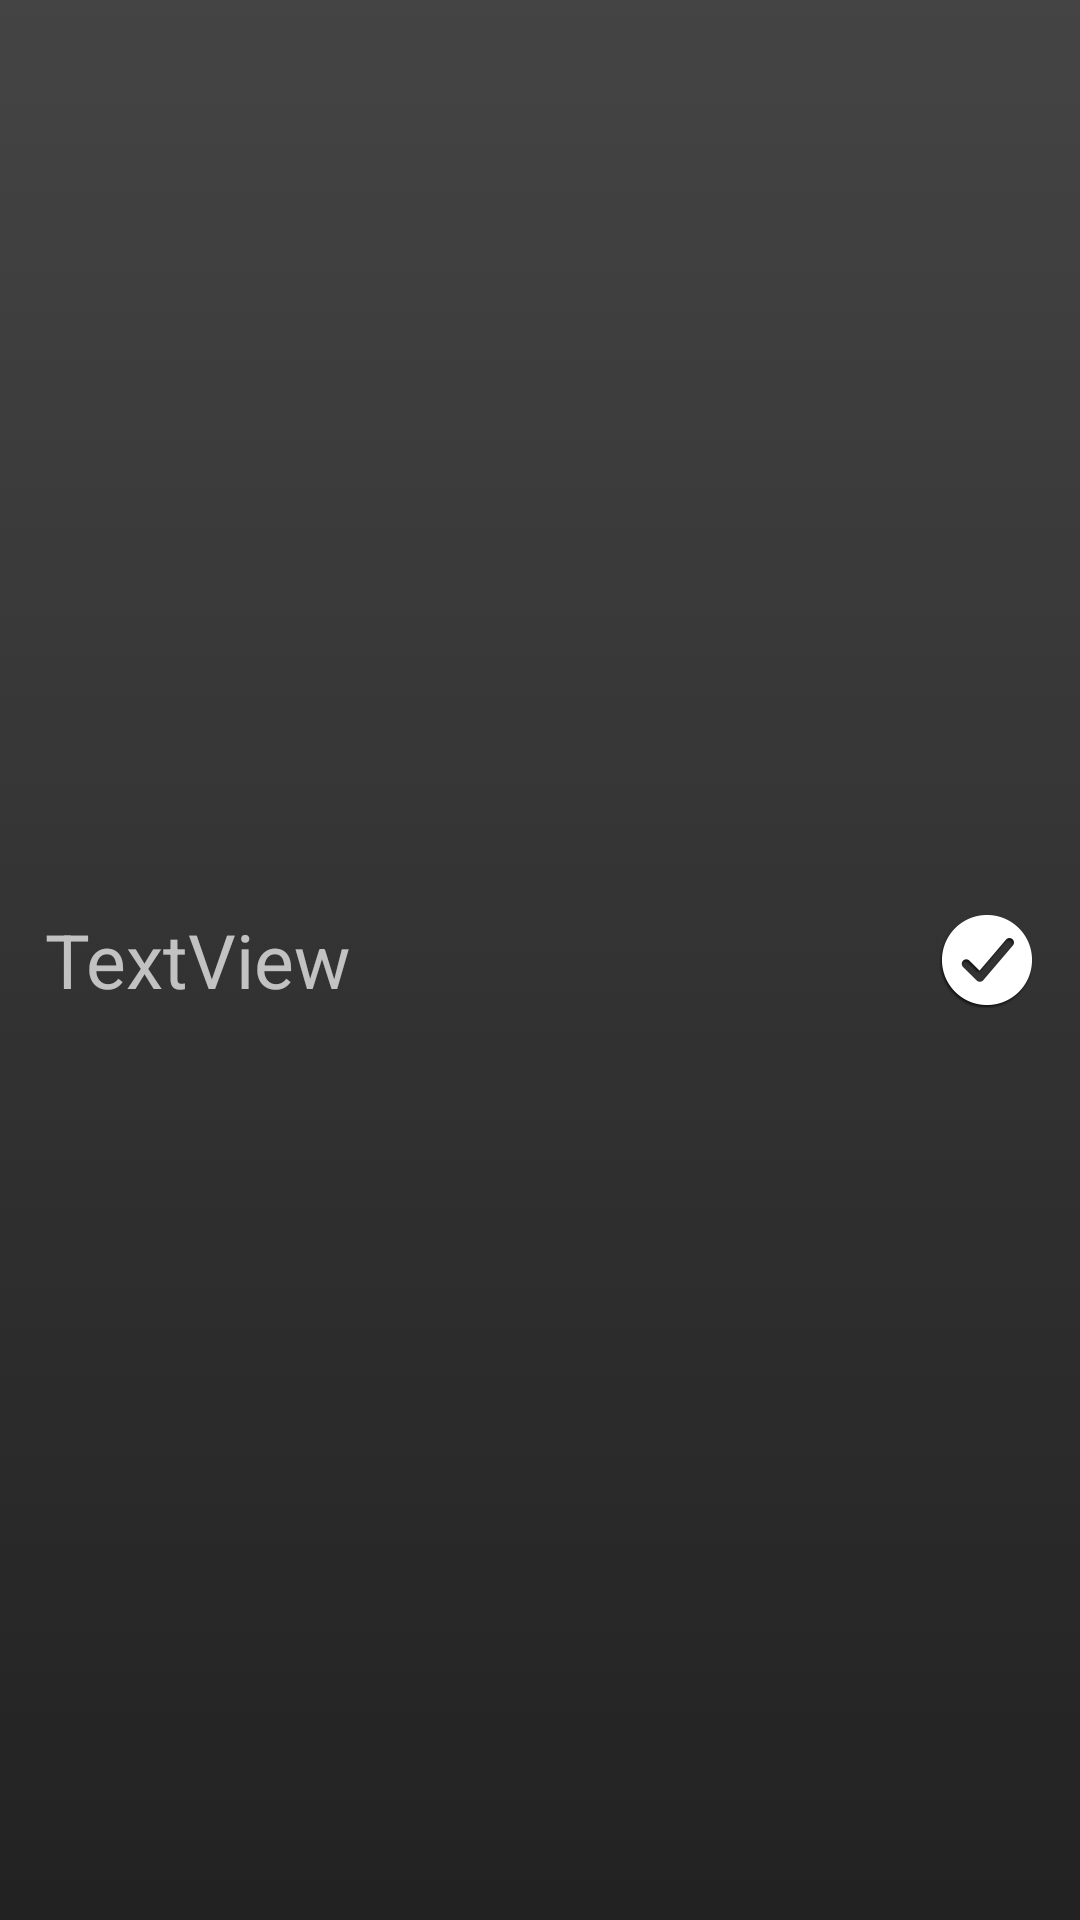

Icons on this 1080 × 1920 Android screen, each with its box as (x1,y1,x2,y2):
case check mark: (942,915,1032,1006)
